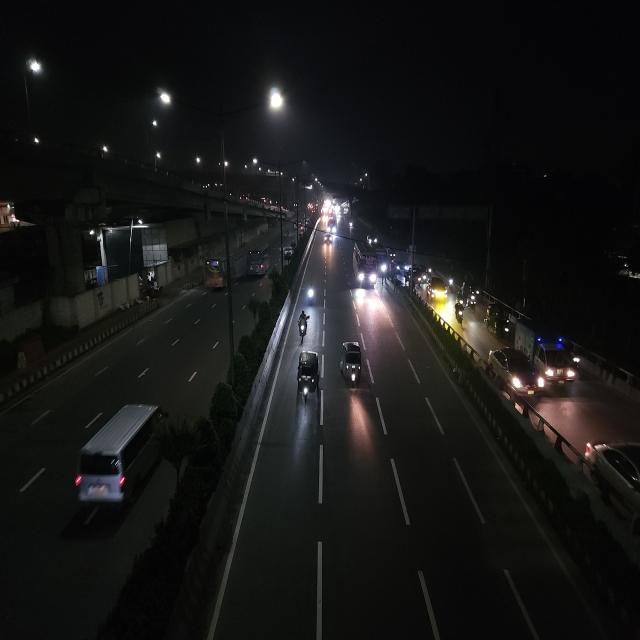bus: (351, 239, 382, 291), (202, 258, 228, 292), (247, 246, 270, 277), (428, 274, 448, 304), (326, 218, 336, 235)
car: (70, 396, 172, 520), (579, 433, 640, 537), (485, 346, 544, 400), (534, 339, 580, 390), (281, 242, 295, 260), (322, 231, 333, 245)
cng: (293, 348, 321, 403), (337, 339, 365, 393), (483, 308, 499, 336), (454, 301, 466, 325)
motorcycle: (296, 308, 312, 344), (305, 280, 316, 306)
